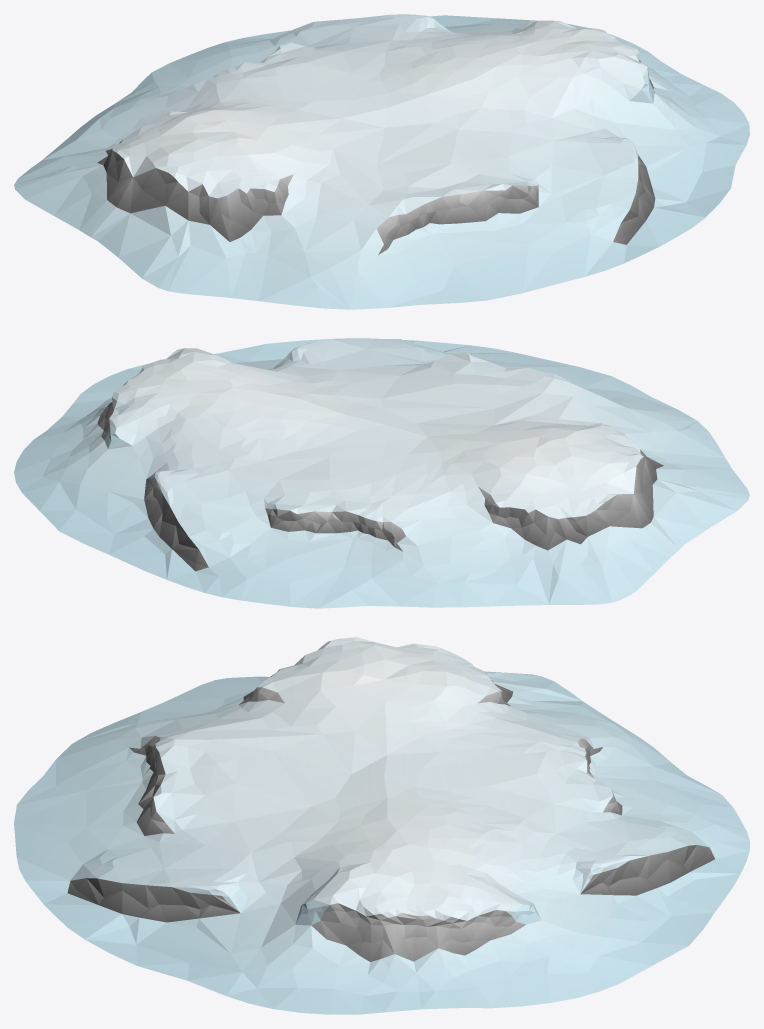
The model's file is Cliff_7.FBX.
The picture shows the model from 3 angles, top to bottom: view 1: azimuth 30°, elevation 25°; view 2: azimuth 150°, elevation 25°; view 3: azimuth 270°, elevation 25°; orthographic projection. The views are drawn at different scales.
Parts seen in each view (by area): view 1: Cliff_7; view 2: Cliff_7; view 3: Cliff_7.
Part boxes in pixels (x1=…): Cliff_7: x1=14, y1=14, x2=749, y2=309; Cliff_7: x1=14, y1=338, x2=749, y2=608; Cliff_7: x1=14, y1=637, x2=749, y2=1014.
Size of the model in its own units: 209 by 23.37 by 190.
